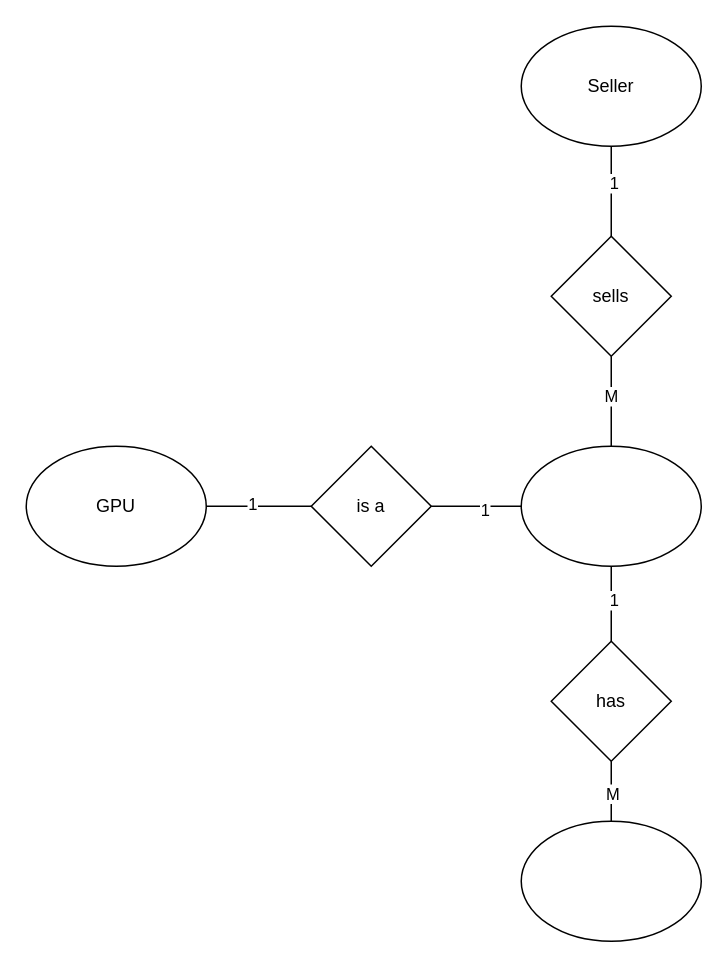
Some shapes in this 728 by 968 pixel diagram are drawn without their labels. The shapes that lost their labels are listed below. From the top down, each one's box as (x1, y1, x2, y2) in pixels, then its label:
(520, 445, 701, 566): Product
(520, 820, 701, 941): Price (history)
